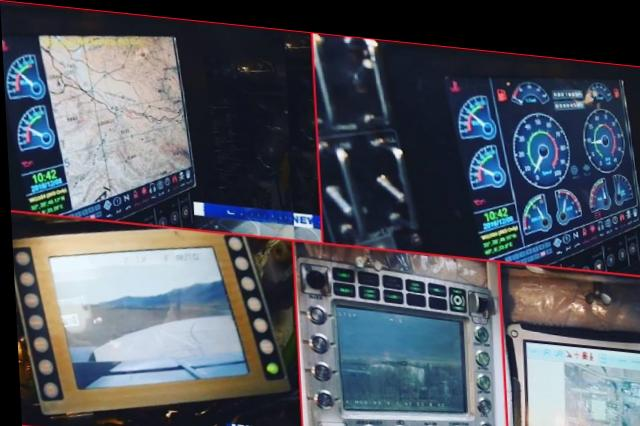tank: (331, 32, 640, 252), (299, 243, 499, 424)
